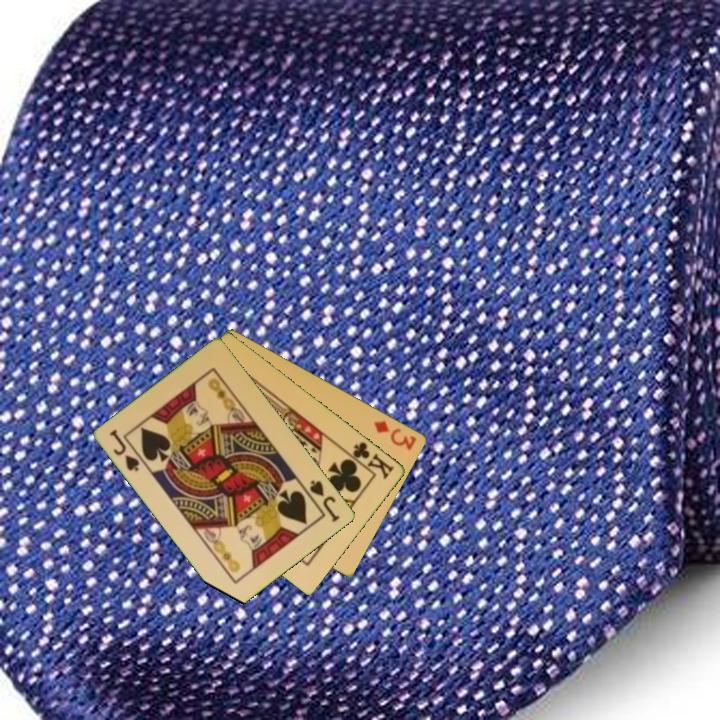3d: (370, 417, 420, 453)
Js: (106, 425, 143, 474), (307, 476, 343, 525)
Kc: (344, 438, 397, 482)
